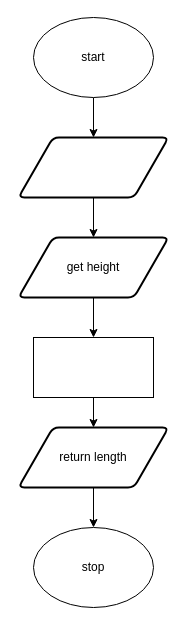
This 186x625 diagram has some shape labels left out. The shapes that lost their labels are listed below. From the top down, each one's box as (x1, y1, x2, y2) in pixels, then its label:
(17, 136, 169, 198): get width
(32, 336, 154, 398): length = boardfoot/ width * height
